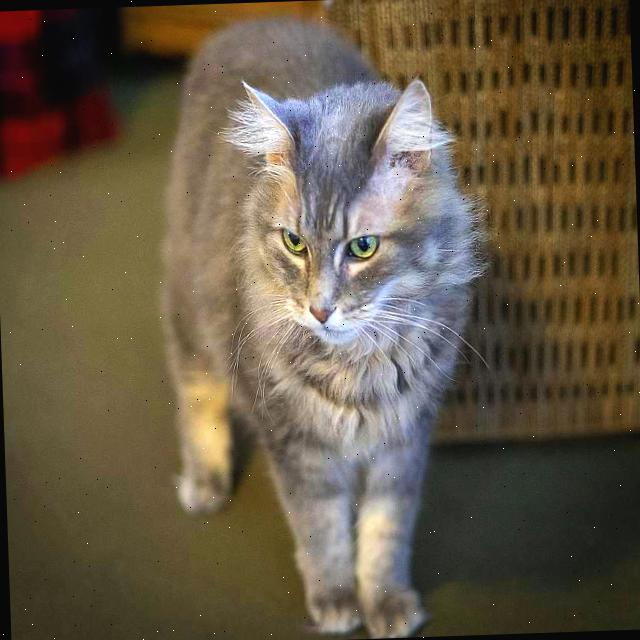domestic_long_hair_cat: (212, 49, 505, 417)
